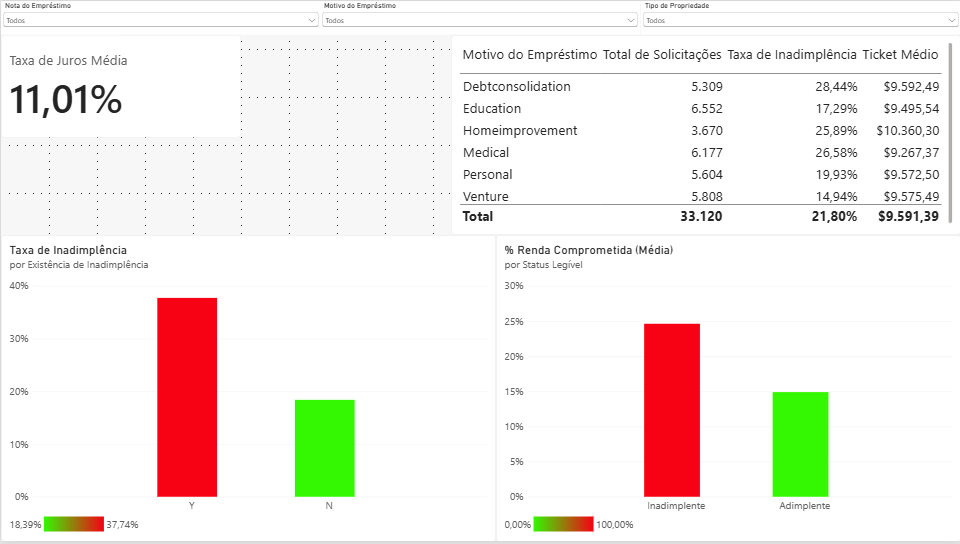

This screenshot's page, from the dashboard's own definition file:
{"tool":"powerbi","page":{"name":"Perfil de Risco","canvas":[1920,1080],"ordinal":1},"visuals":[{"type":"slicer","fields":{"Values":["FatoEmprestimos.nota_emprestimo"]},"box":[0,0,640,67.1],"z":1},{"type":"slicer","fields":{"Values":["FatoEmprestimos.motivo_emprestimo"]},"box":[638.8,0,640,67.1],"z":2},{"type":"slicer","fields":{"Values":["FatoEmprestimos.propriedade_residencial_pessoa"]},"box":[1280,0,640,67.1],"z":3},{"type":"cardVisual","fields":{"Data":["Medidas.Taxa de Juros Média"]},"box":[0,67.5,480,205],"z":4},{"type":"columnChart","fields":{"Category":["FatoEmprestimos.existencia_inadimplencia_banco"],"Y":["Medidas.Taxa de Inadimplência"]},"box":[0,467.5,990,612.5],"z":5},{"type":"columnChart","fields":{"Category":["FatoEmprestimos.Status Legível"],"Y":["Medidas.% Renda Comprometida (Média)"]},"box":[990,467.5,930,612.5],"z":6},{"type":"tableEx","fields":{"Values":["FatoEmprestimos.motivo_emprestimo","Medidas.Total de Solicitações","Medidas.Taxa de Inadimplência","Medidas.Ticket Médio"]},"box":[900,67.5,1020,400],"z":7}]}

Visuals, with their boxes in screenshot pixels (x1, y1, x2, y2), scaled from the page's 1920x1080 canvas onto the 960x544 screenshot:
slicer - FatoEmprestimos.nota_emprestimo: (0, 0, 320, 34)
slicer - FatoEmprestimos.motivo_emprestimo: (319, 0, 639, 34)
slicer - FatoEmprestimos.propriedade_residencial_pessoa: (640, 0, 959, 34)
cardVisual - Medidas.Taxa de Juros Média: (0, 34, 240, 137)
columnChart - FatoEmprestimos.existencia_inadimplencia_banco x Medidas.Taxa de Inadimplência: (0, 235, 495, 543)
columnChart - FatoEmprestimos.Status Legível x Medidas.% Renda Comprometida (Média): (495, 235, 959, 543)
tableEx - FatoEmprestimos.motivo_emprestimo x Medidas.Total de Solicitações: (450, 34, 959, 235)
